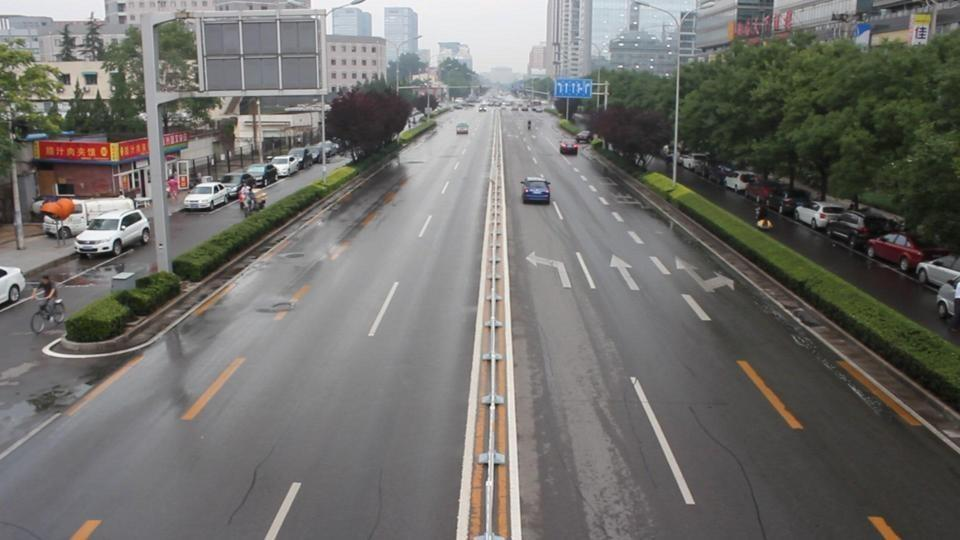car: (75, 208, 152, 259), (828, 207, 906, 253), (866, 232, 943, 277), (916, 255, 960, 291), (795, 203, 847, 231), (183, 182, 229, 211), (0, 266, 27, 309), (935, 277, 960, 322), (31, 196, 78, 218), (217, 172, 254, 199), (243, 163, 279, 188), (520, 177, 552, 205), (302, 142, 336, 166), (268, 154, 302, 178), (287, 145, 322, 168), (779, 190, 808, 216), (721, 173, 752, 194), (560, 140, 578, 156), (456, 121, 470, 135), (478, 105, 487, 112)
